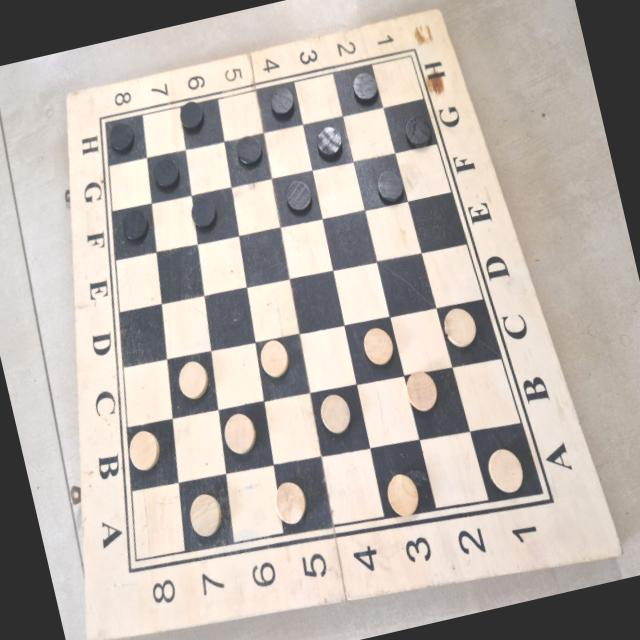BOARD: (104, 55, 542, 561)
black: (332, 57, 388, 115), (387, 98, 440, 158), (362, 155, 410, 209), (276, 168, 322, 223), (260, 77, 310, 122), (309, 112, 352, 164), (172, 93, 216, 143), (116, 204, 158, 254), (231, 128, 272, 174), (99, 116, 141, 160), (147, 148, 185, 196), (186, 192, 227, 232)
white: (472, 434, 534, 505), (374, 453, 429, 523), (121, 414, 176, 481), (179, 480, 230, 550), (268, 465, 314, 537), (309, 383, 360, 445), (353, 314, 402, 376), (217, 400, 263, 463), (166, 352, 214, 408), (256, 331, 300, 392), (439, 302, 484, 350), (403, 368, 448, 413)
